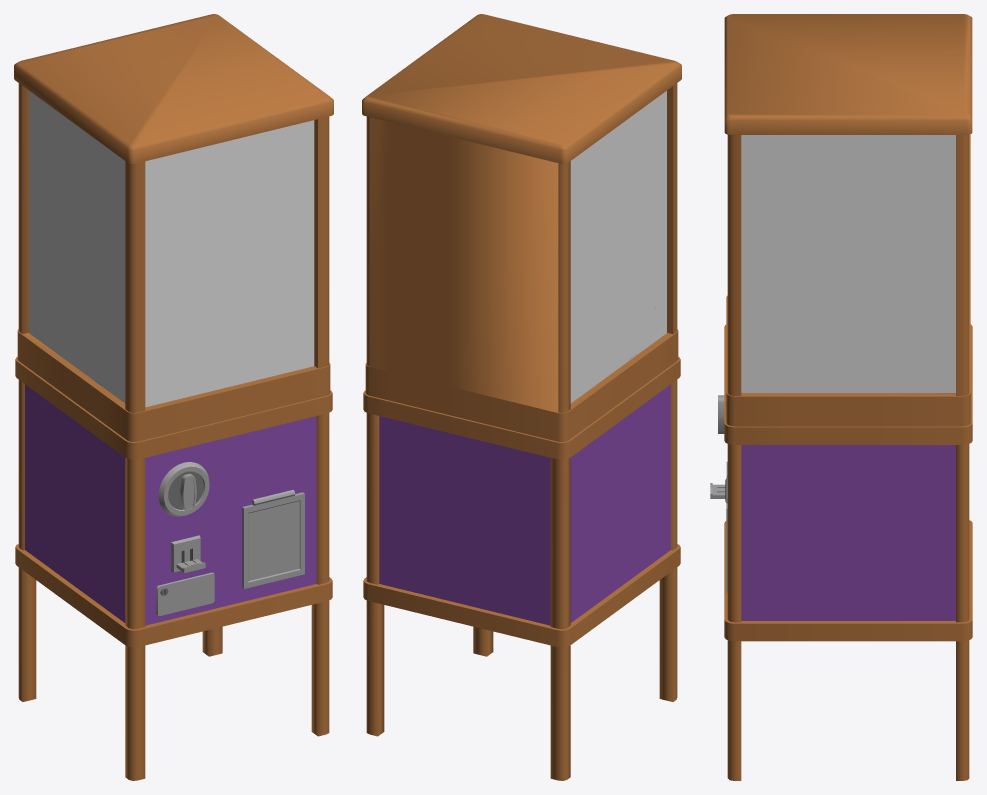
The model's file is gachaMachine.fbx.
3 renders of one model, left to right at view 1: azimuth 30°, elevation 25°; view 2: azimuth 150°, elevation 25°; view 3: azimuth 270°, elevation 25°, orthographic. The views are drawn at different scales.
Parts seen in each view (by area): view 1: Gacha Machine, Gacha Glass Case, Flap; view 2: Gacha Machine, Gacha Glass Case; view 3: Gacha Machine, Gacha Glass Case.
Part boxes in pixels (box(x1,y1,x2,y2)): Gacha Machine: box(14, 14, 333, 780); Gacha Glass Case: box(29, 91, 314, 407); Flap: box(242, 489, 304, 588); Gacha Machine: box(362, 14, 681, 780); Gacha Glass Case: box(570, 91, 666, 403); Gacha Machine: box(710, 14, 972, 780); Gacha Glass Case: box(741, 135, 955, 392).
Size of the model in its own units: 70.82 by 74.84 by 209.
